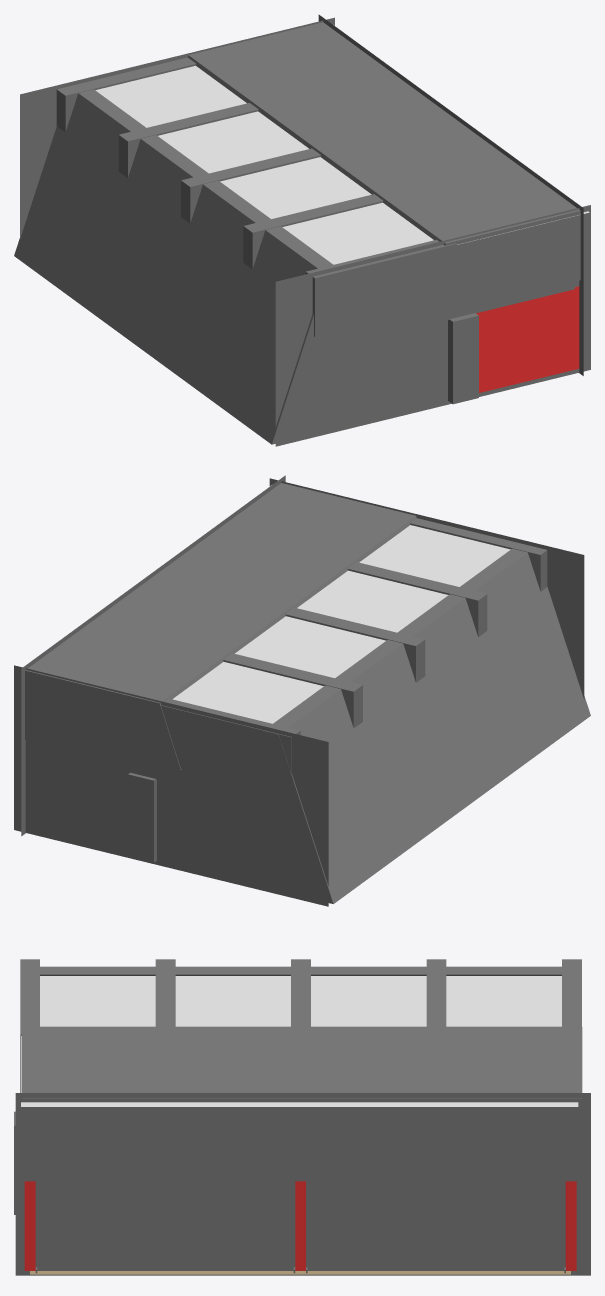
The model's file is Dummy.fbx.
3 views of the same model, one above another, from view 1: azimuth 30°, elevation 25°; view 2: azimuth 150°, elevation 25°; view 3: azimuth 270°, elevation 25° (orthographic). The views are drawn at different scales.
Visible parts, largest first — view 1: Box017, Box016, Plane008, Plane005, Box022, Box015, Plane006, Box014, Plane007, Box025, Box023, Box024 (+1 smaller); view 2: Box017, Box016, Plane006, Plane008, Box026, Plane005, Box012, Plane007, Box024, Box023, Box025, Box022; view 3: Box016, Plane007, Plane008, Box017, Boden, Box022, Box023, Box025, Box024, Box026, Box015, Box013 (+1 smaller).
Part boxes in pixels (box(x1,y1,x2,y2)): Box017: box(14, 89, 333, 444); Box016: box(187, 22, 580, 320); Plane008: box(95, 24, 589, 264); Plane005: box(275, 205, 590, 446); Box022: box(305, 240, 456, 336); Box015: box(476, 286, 579, 392); Plane006: box(20, 17, 334, 238); Box014: box(448, 313, 478, 404); Plane007: box(318, 14, 583, 375); Box025: box(118, 103, 258, 177); Box023: box(243, 194, 383, 269); Box024: box(181, 148, 320, 223); Box017: box(263, 548, 590, 903); Box016: box(25, 483, 416, 780); Plane006: box(14, 665, 328, 906); Plane008: box(23, 485, 510, 723); Box026: box(161, 699, 300, 793); Plane005: box(269, 478, 584, 699); Box012: box(128, 772, 156, 862); Plane007: box(21, 475, 285, 836); Box024: box(285, 607, 425, 682); Box023: box(348, 562, 487, 636); Box025: box(223, 653, 362, 728); Box022: box(410, 518, 547, 591); Box016: box(21, 1026, 582, 1173); Plane007: box(15, 1093, 590, 1275); Plane008: box(21, 976, 578, 1106); Box017: box(40, 966, 561, 975); Boden: box(30, 1271, 570, 1274); Box022: box(20, 959, 39, 1092); Box023: box(155, 959, 175, 1026); Box025: box(426, 959, 446, 1026); Box024: box(291, 959, 310, 1026); Box026: box(562, 959, 581, 1026); Box015: box(24, 1181, 35, 1270); Box013: box(565, 1181, 576, 1270).
Bounding box in the file's own units: 74.31 × 37.26 × 107.
